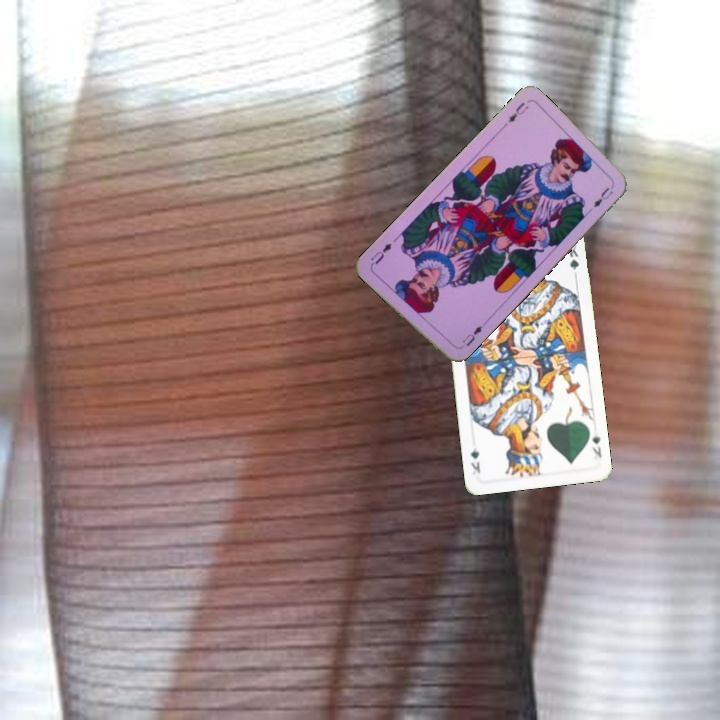EU: (456, 319, 486, 352), (504, 98, 531, 125)
GK: (588, 428, 604, 460)
